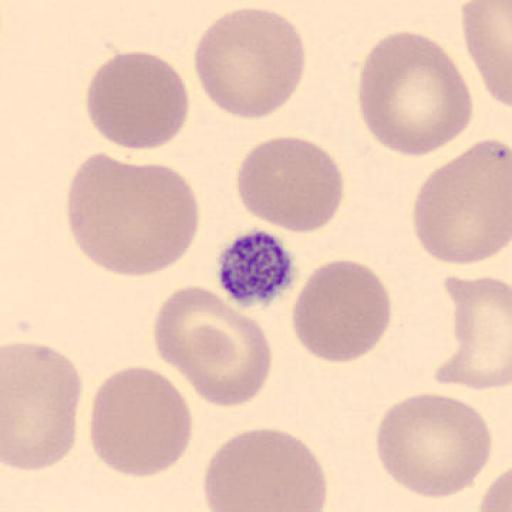Platelet: (214, 226, 298, 309)
RBC: (64, 152, 201, 280), (151, 283, 274, 410), (356, 30, 474, 158), (411, 136, 512, 267), (192, 6, 307, 120), (374, 391, 494, 500), (88, 364, 192, 478), (236, 134, 346, 236), (291, 258, 393, 365), (202, 426, 328, 512), (2, 339, 82, 473), (86, 51, 190, 151), (174, 308, 273, 408), (434, 276, 512, 390), (461, 1, 512, 109), (479, 447, 512, 512), (478, 467, 512, 512)
